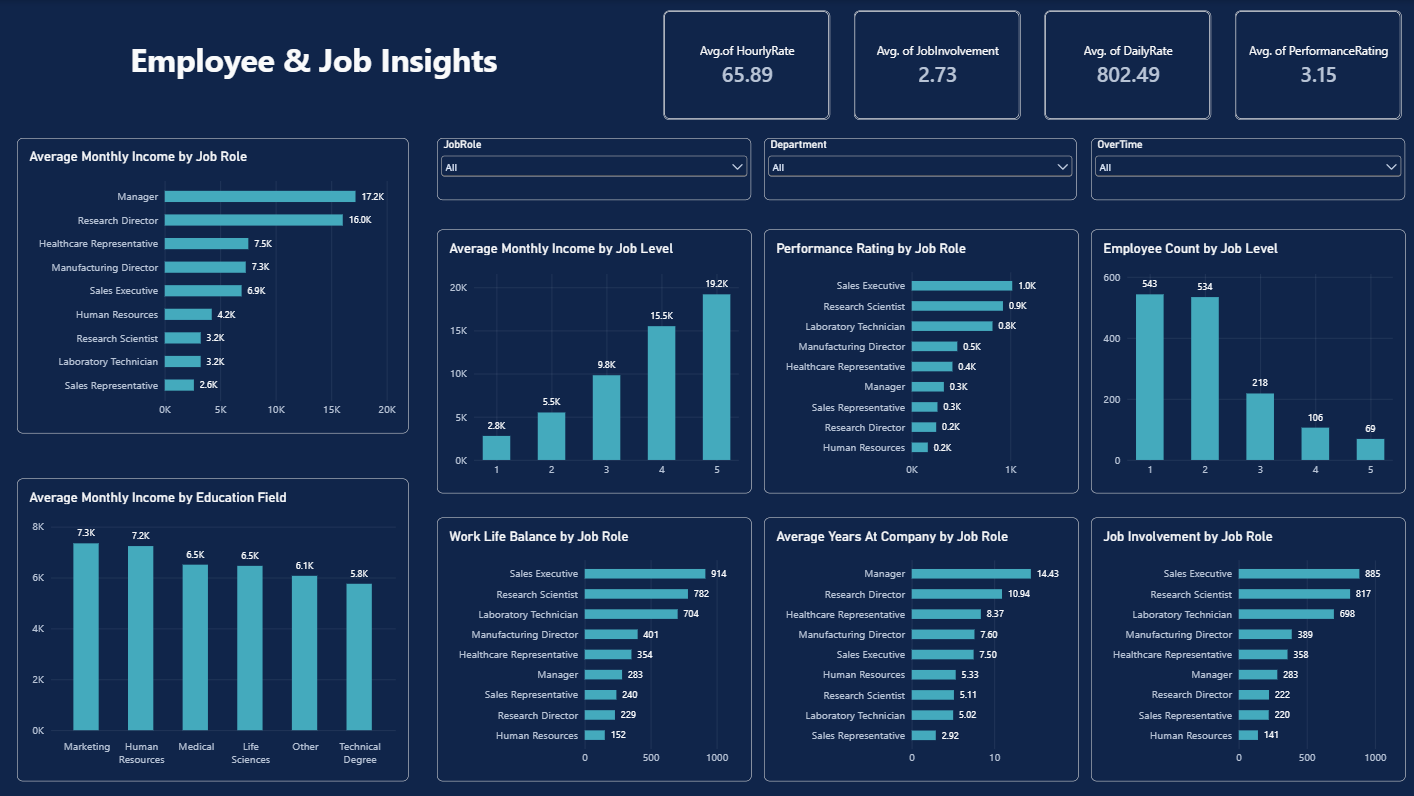

Layout of this report page (visuals, bound fields, positions):
{"tool":"powerbi","page":{"name":"Employee & Job Insights","canvas":[1920,1080],"ordinal":2},"visuals":[{"type":"clusteredBarChart","title":"Average Monthly Income by Job Role","fields":{"Category":["HR-Employee-Attrition.JobRole"],"Y":["HR-Employee-Attrition.Average Monthly Income"]},"box":[24.3,186.5,529.2,399.4],"z":0},{"type":"clusteredColumnChart","title":"Average Monthly Income by Job Level","fields":{"Category":["HR-Employee-Attrition.JobLevel"],"Y":["HR-Employee-Attrition.Average Monthly Income"]},"box":[592.1,310.2,425,356.9],"z":1000},{"type":"clusteredColumnChart","title":"Average Monthly Income by Education Field","fields":{"Category":["HR-Employee-Attrition.EducationField"],"Y":["HR-Employee-Attrition.Average Monthly Income"]},"box":[24.3,646.8,529.2,409.6],"z":2000},{"type":"clusteredBarChart","title":"Job Involvement by Job Role","fields":{"Category":["HR-Employee-Attrition.JobRole"],"Y":["Sum(HR-Employee-Attrition.JobInvolvement)"]},"box":[1476.1,699.5,425,356.6],"z":3000},{"type":"clusteredBarChart","title":"Performance Rating by Job Role","fields":{"Category":["HR-Employee-Attrition.JobRole"],"Y":["Sum(HR-Employee-Attrition.PerformanceRating)"]},"box":[1034.1,310.2,425,356.9],"z":4000},{"type":"clusteredBarChart","title":"Work Life Balance by Job Role","fields":{"Category":["HR-Employee-Attrition.JobRole"],"Y":["Sum(HR-Employee-Attrition.WorkLifeBalance)"]},"box":[592.1,699.5,425,356.6],"z":5000},{"type":"clusteredBarChart","title":"Average Years At Company by Job Role","fields":{"Category":["HR-Employee-Attrition.JobRole"],"Y":["Avg(HR-Employee-Attrition.YearsAtCompany)"]},"box":[1034.1,699.5,425,356.9],"z":6000},{"type":"clusteredColumnChart","title":"Employee Count by Job Level","fields":{"Category":["HR-Employee-Attrition.JobLevel"],"Y":["Sum(HR-Employee-Attrition.EmployeeCount)"]},"box":[1476.1,310.2,425,356.9],"z":7000},{"type":"cardVisual","fields":{"Data":["Avg(HR-Employee-Attrition.HourlyRate)"]},"box":[898.2,14.2,225.1,148],"z":8000},{"type":"cardVisual","fields":{"Data":["Avg(HR-Employee-Attrition.JobInvolvement)"]},"box":[1155.8,14.2,225,148],"z":9000},{"type":"cardVisual","fields":{"Data":["Avg(HR-Employee-Attrition.DailyRate)"]},"box":[1413.2,14.2,225,148],"z":10000},{"type":"cardVisual","fields":{"Data":["Avg(HR-Employee-Attrition.PerformanceRating)"]},"box":[1670.7,14.2,225,148],"z":11000},{"type":"slicer","fields":{"Values":["HR-Employee-Attrition.Department"]},"box":[1034.1,186.2,422.5,84],"z":12000},{"type":"slicer","fields":{"Values":["HR-Employee-Attrition.JobRole"]},"box":[592.1,186.2,424.7,84],"z":13000},{"type":"slicer","fields":{"Values":["HR-Employee-Attrition.OverTime"]},"box":[1476.1,186.2,424.7,84],"z":14000},{"type":"textbox","box":[25,13.6,844.9,147.6],"z":14001}]}

Visuals, with their boxes in screenshot pixels (x1, y1, x2, y2), scaled from the page's 1920x1080 canvas onto the 1414x796 screenshot:
"Average Monthly Income by Job Role" clusteredBarChart: 18 137 408 432
"Average Monthly Income by Job Level" clusteredColumnChart: 436 229 749 492
"Average Monthly Income by Education Field" clusteredColumnChart: 18 477 408 779
"Job Involvement by Job Role" clusteredBarChart: 1087 516 1400 778
"Performance Rating by Job Role" clusteredBarChart: 762 229 1075 492
"Work Life Balance by Job Role" clusteredBarChart: 436 516 749 778
"Average Years At Company by Job Role" clusteredBarChart: 762 516 1075 779
"Employee Count by Job Level" clusteredColumnChart: 1087 229 1400 492
cardVisual - Avg(HR-Employee-Attrition.HourlyRate): 661 10 827 120
cardVisual - Avg(HR-Employee-Attrition.JobInvolvement): 851 10 1017 120
cardVisual - Avg(HR-Employee-Attrition.DailyRate): 1041 10 1206 120
cardVisual - Avg(HR-Employee-Attrition.PerformanceRating): 1230 10 1396 120
slicer - HR-Employee-Attrition.Department: 762 137 1073 199
slicer - HR-Employee-Attrition.JobRole: 436 137 749 199
slicer - HR-Employee-Attrition.OverTime: 1087 137 1400 199
textbox: 18 10 641 119
